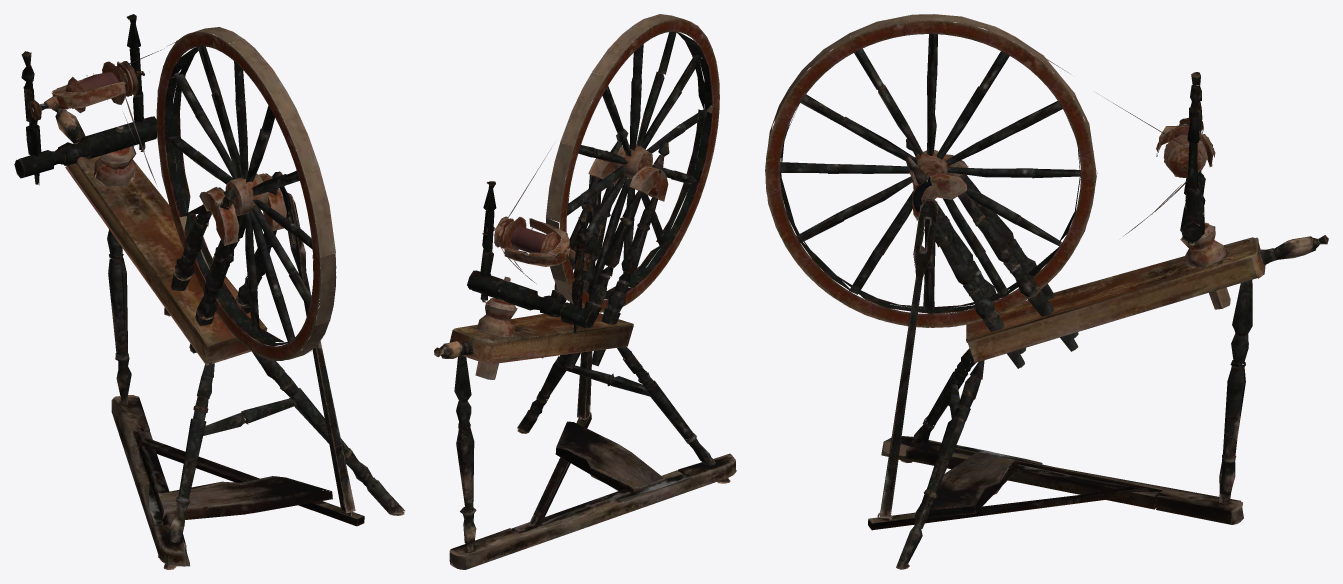
The model's file is ph_spinning_wheel_01.glb.
3 views of the same model, side by side, from view 1: azimuth 30°, elevation 25°; view 2: azimuth 150°, elevation 25°; view 3: azimuth 270°, elevation 25° (orthographic). The views are drawn at different scales.
Visible parts, largest first — view 1: spinning_wheel_01; view 2: spinning_wheel_01; view 3: spinning_wheel_01.
Boxes of the visible parts, x1,y1,x2,y2 form: spinning_wheel_01: (14, 14, 404, 569); spinning_wheel_01: (434, 14, 736, 569); spinning_wheel_01: (765, 14, 1328, 569).
Size of the model in its own units: 0.4922 by 0.966 by 1.03.
1 material, 1 textured.
